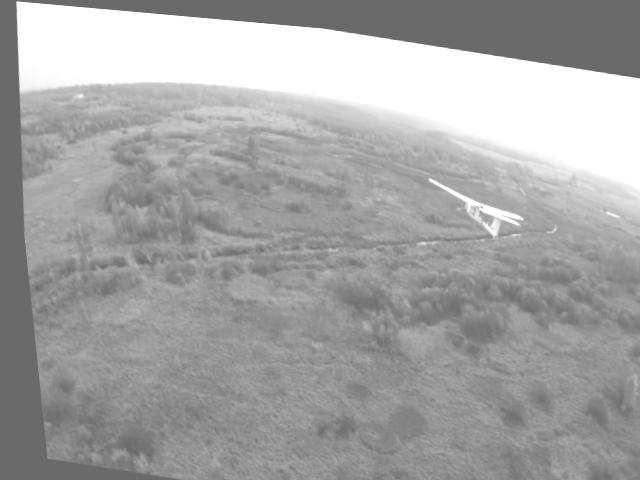hedef: (414, 159, 536, 252)
